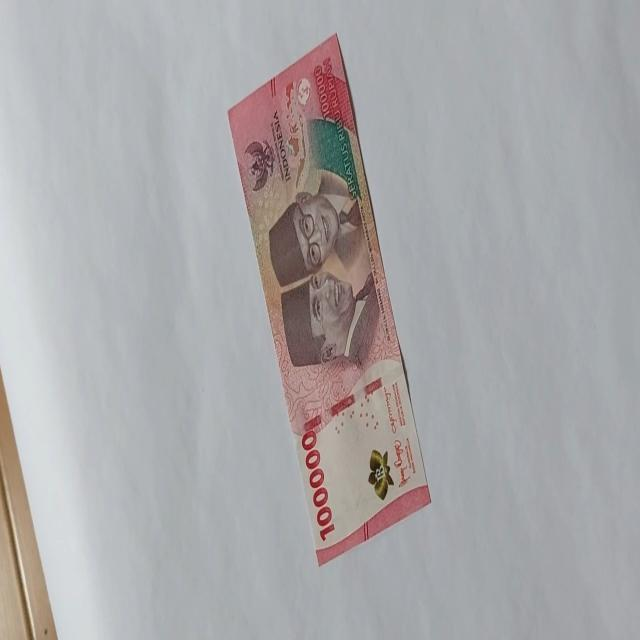seratus ribu rupiah: (226, 31, 432, 565), (267, 180, 378, 370)
